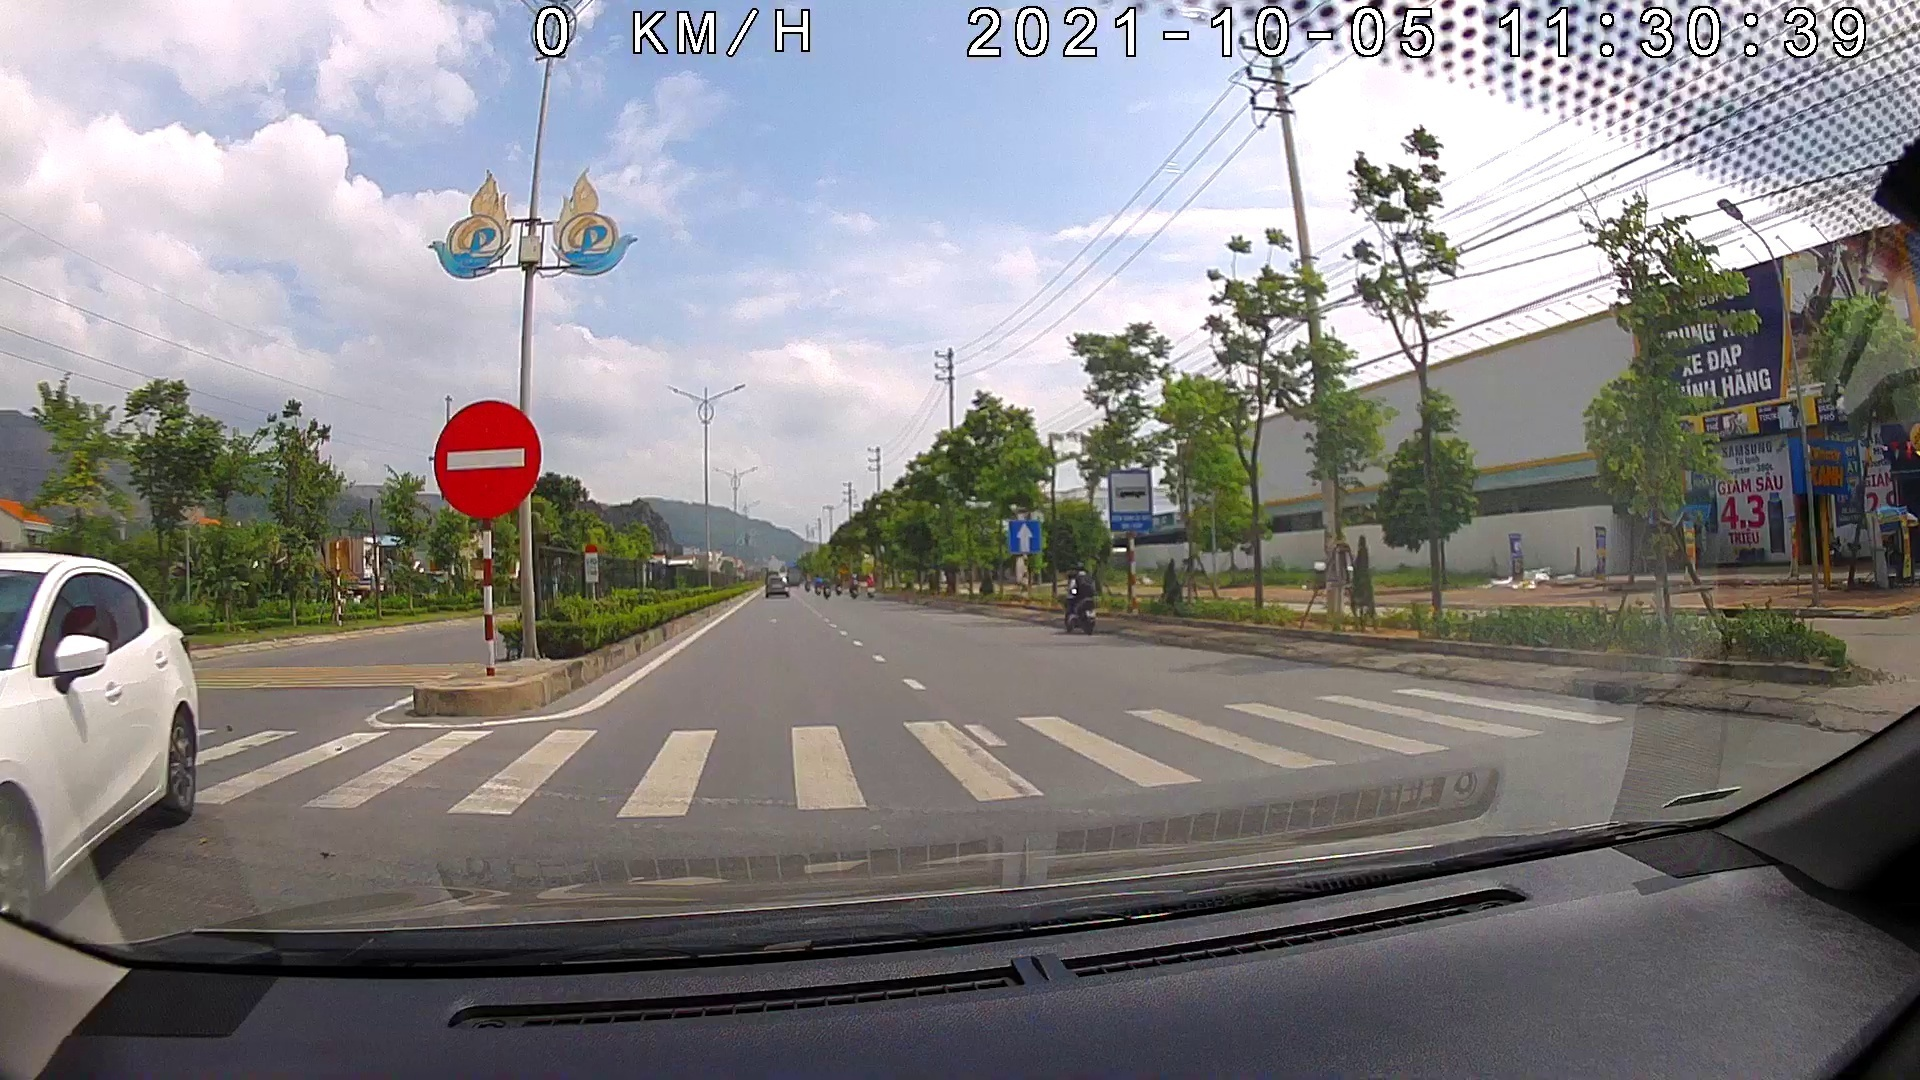Bien khac: (1110, 471, 1153, 535), (1007, 518, 1044, 554)
Cam di nguoc chieu: (435, 400, 541, 522)
